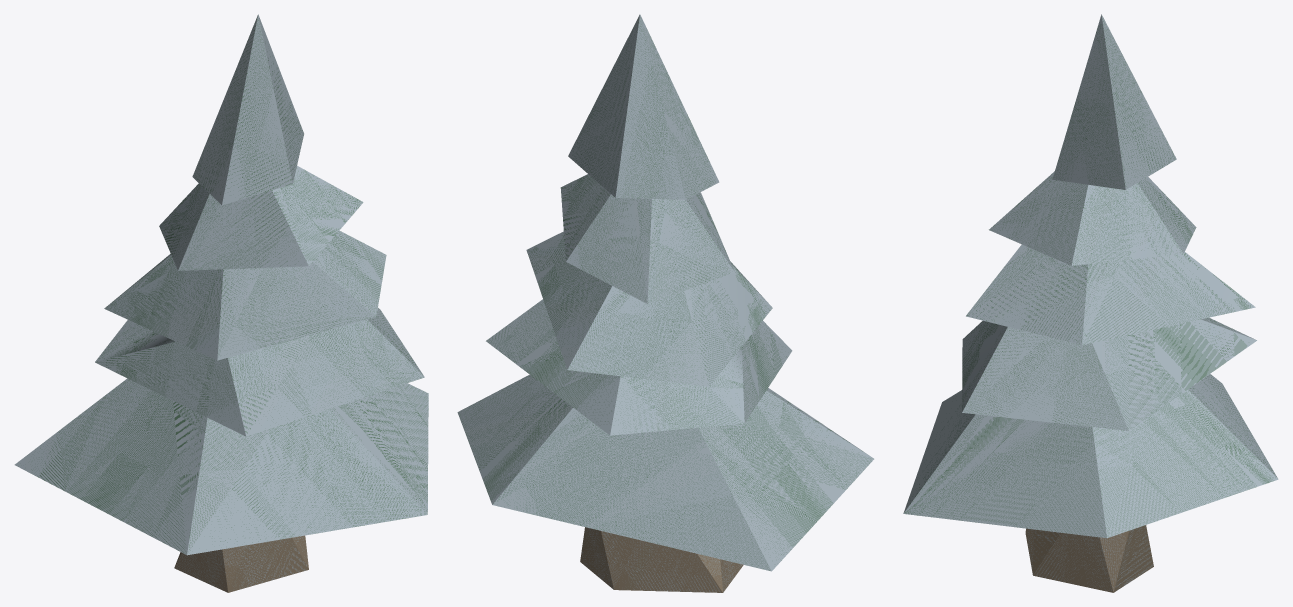
Rendered from Tree_Pine_01.fbx.
The picture shows the model from 3 angles, left to right: view 1: azimuth 30°, elevation 25°; view 2: azimuth 150°, elevation 25°; view 3: azimuth 270°, elevation 25°; orthographic projection. The views are drawn at different scales.
Parts seen in each view (by area): view 1: Model; view 2: Model; view 3: Model.
Part boxes in pixels (bbox=[...]): Model: bbox=[14, 14, 428, 592]; Model: bbox=[457, 14, 873, 592]; Model: bbox=[903, 14, 1278, 592].
Bounding box in the file's own units: 227 × 324 × 200.
